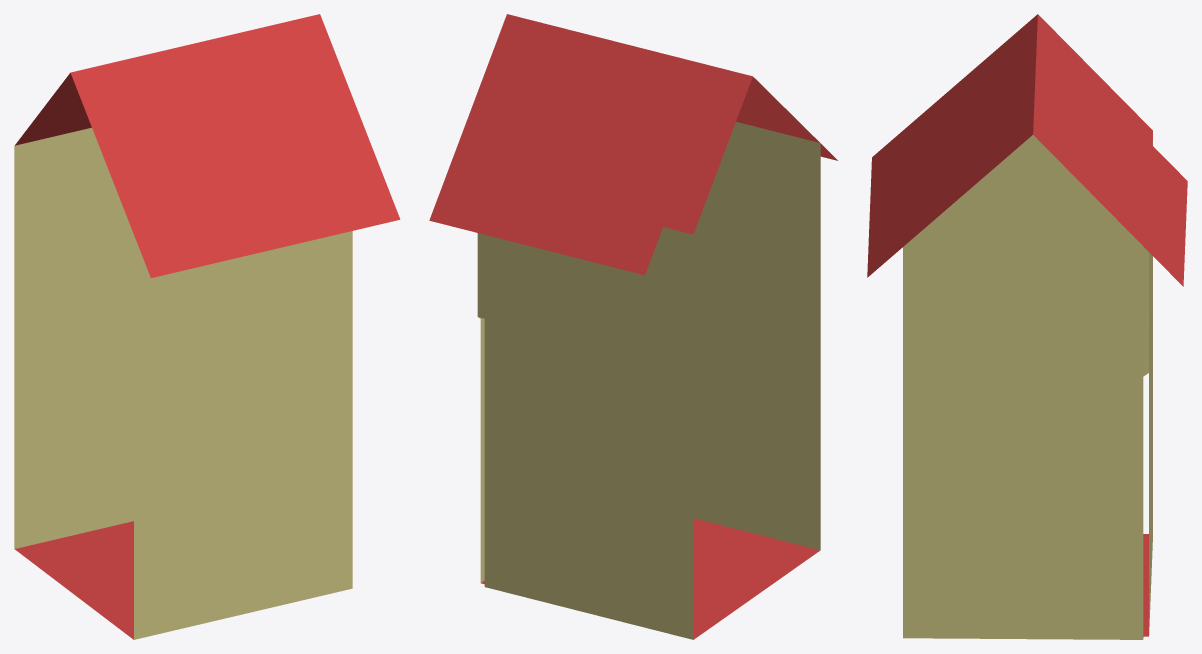
3 views of the same model, side by side, from view 1: azimuth 30°, elevation 25°; view 2: azimuth 150°, elevation 25°; view 3: azimuth 270°, elevation 25° (orthographic).
Size of the model in its own units: 6.2 by 6.83 by 12.21.
